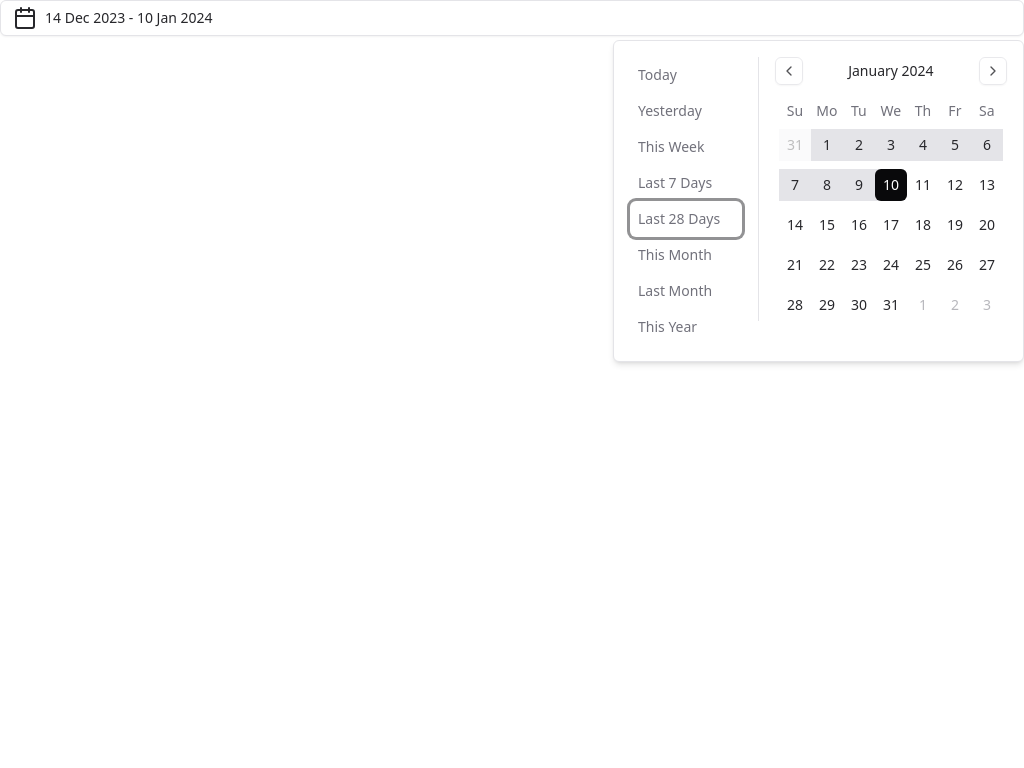
Test case: updates via ToggleGroup click
What coordinates should you click on to do the following:
click the radio button labelled "Yesterday"
I would click on:
 (686, 111)
Its box is [630,93,742,129].
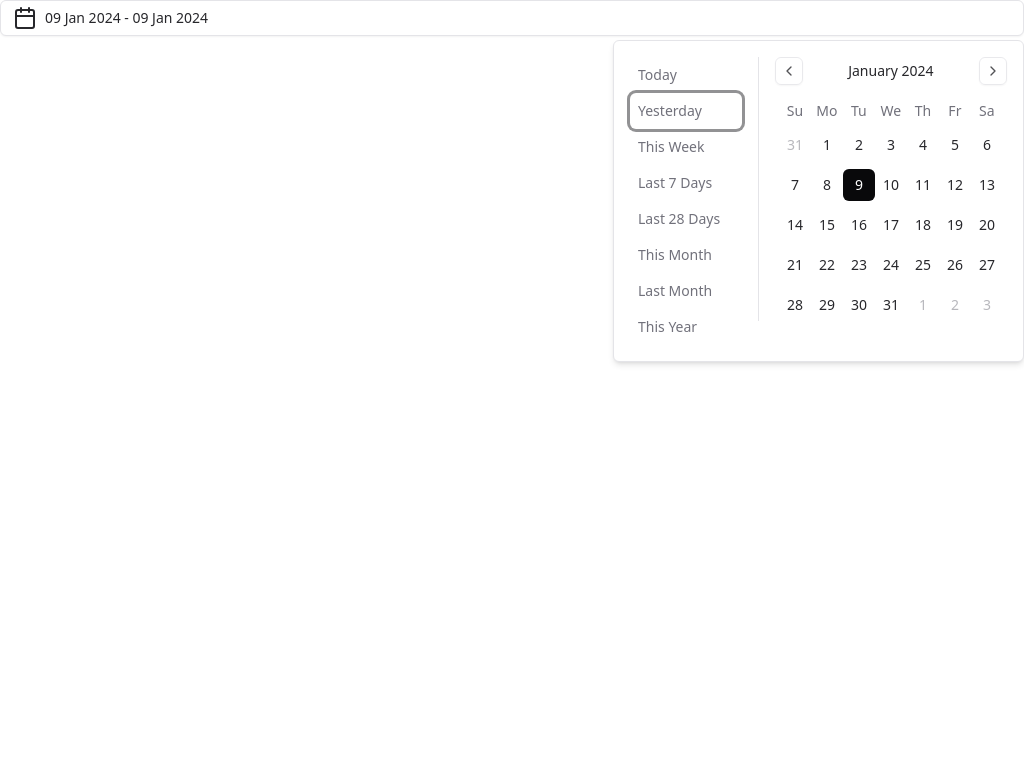
Check: the button "09 Jan 2024 - 09 Jan 2024" is shown, box [0,0,1023,36]
